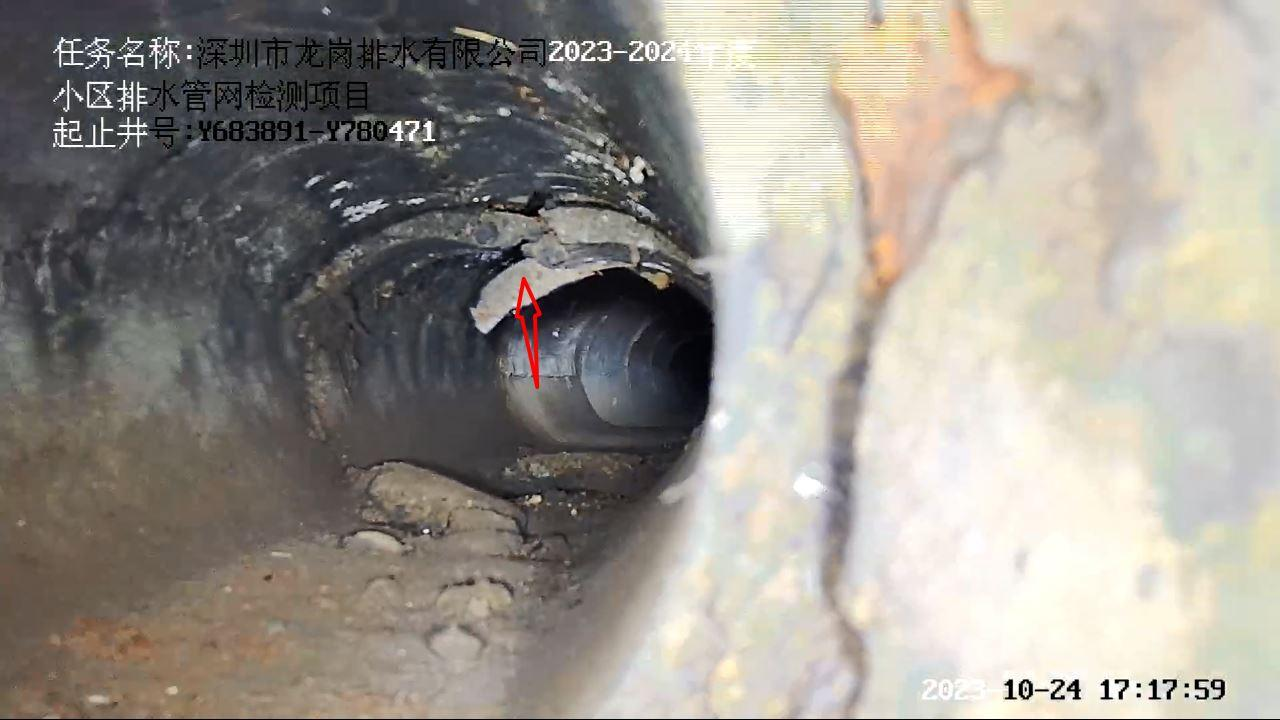PL: (403, 193, 689, 345)
